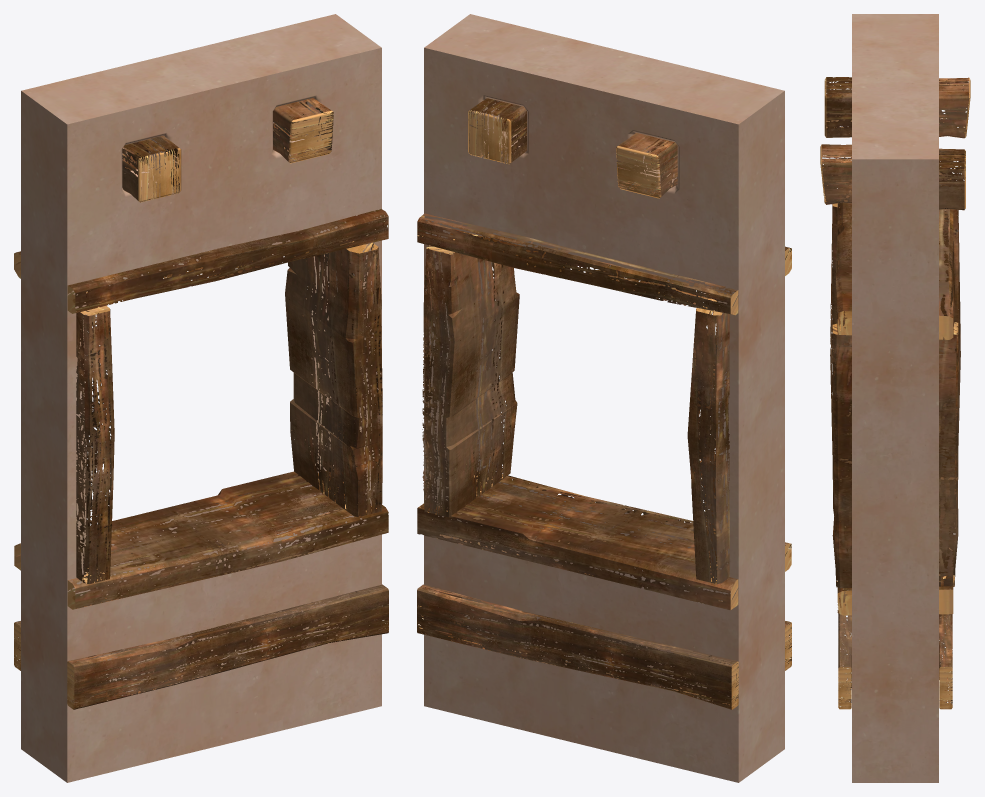
3 renders of one model, left to right at view 1: azimuth 30°, elevation 25°; view 2: azimuth 150°, elevation 25°; view 3: azimuth 270°, elevation 25°, orthographic. The views are drawn at different scales.
Parts seen in each view (by area): view 1: SM_BB_T4_Wall_Windowframe_Narrow_LOD0; view 2: SM_BB_T4_Wall_Windowframe_Narrow_LOD0; view 3: SM_BB_T4_Wall_Windowframe_Narrow_LOD0.
Boxes of the visible parts, box(x1,y1,x2,y2) form: SM_BB_T4_Wall_Windowframe_Narrow_LOD0: box(14, 14, 388, 782); SM_BB_T4_Wall_Windowframe_Narrow_LOD0: box(417, 14, 791, 782); SM_BB_T4_Wall_Windowframe_Narrow_LOD0: box(820, 14, 970, 782).
Size of the model in its own units: 1.5 by 3 by 0.6542.
Materials: 2 (2 with a texture image).
